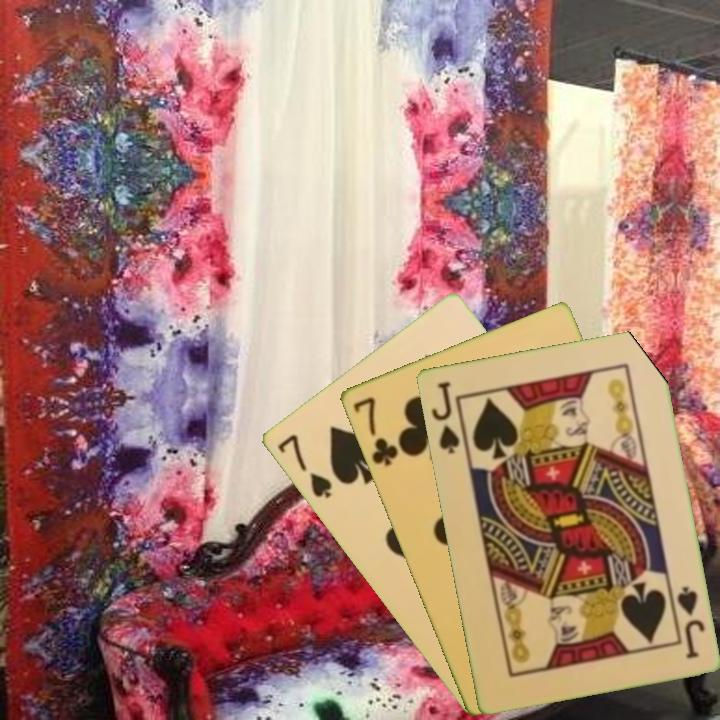7c: (349, 393, 401, 469)
7s: (273, 430, 335, 502)
Js: (667, 582, 707, 661), (427, 377, 462, 457)
